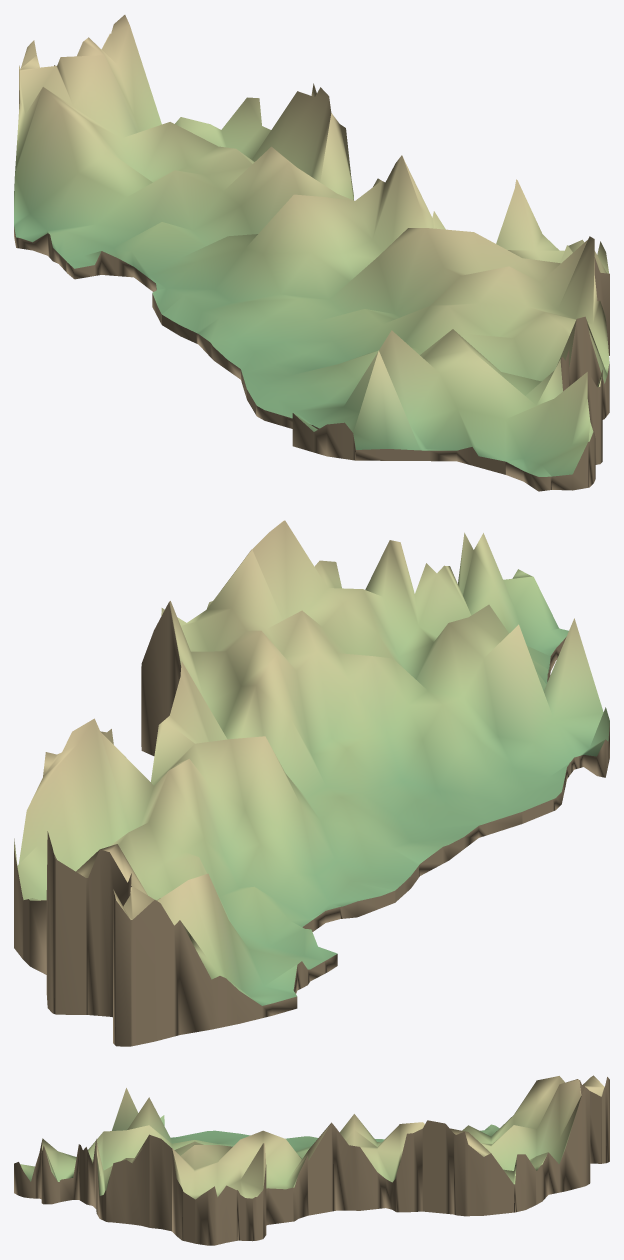
Rendered from ALB.glb.
The picture shows the model from 3 angles, top to bottom: view 1: azimuth 30°, elevation 25°; view 2: azimuth 150°, elevation 25°; view 3: azimuth 270°, elevation 25°; orthographic projection. The views are drawn at different scales.
Visible parts, largest first — view 1: ALB; view 2: ALB; view 3: ALB.
Boxes of the visible parts, bbox=[...] form: ALB: bbox=[14, 15, 609, 491]; ALB: bbox=[14, 520, 609, 1046]; ALB: bbox=[14, 1075, 609, 1245].
Size of the model in its own units: 0.8046 by 0.338 by 1.83.
